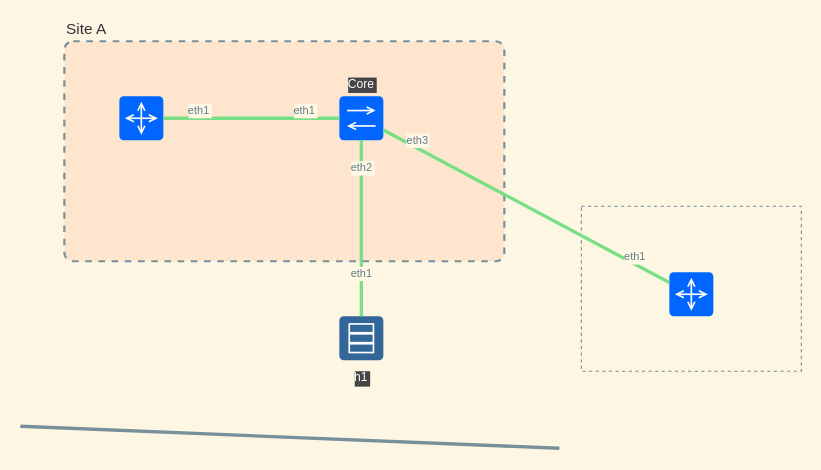
This 821x470 diagram has some shape labels left out. The centre of each missing label's shape, as x and y in pixels:
"r1" belongs at point 141,118.
"r2" belongs at point 691,294.
